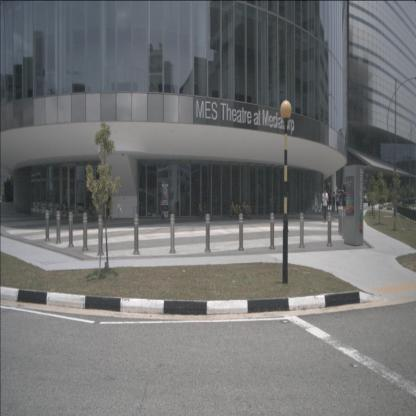human-pedestrian-adult: (321, 188, 329, 223), (335, 189, 339, 213), (332, 192, 336, 214), (327, 190, 331, 212), (343, 189, 346, 211)
vehicle-bicycle: (228, 198, 242, 219), (240, 196, 251, 219), (83, 203, 96, 221), (60, 202, 72, 220), (196, 199, 204, 220)
vehicle-car: (362, 192, 373, 203)
